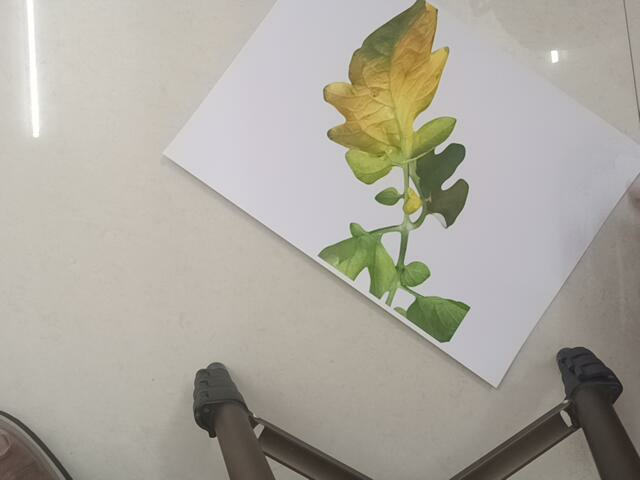Tomamto_Yellow_Disease: (306, 5, 510, 340)
